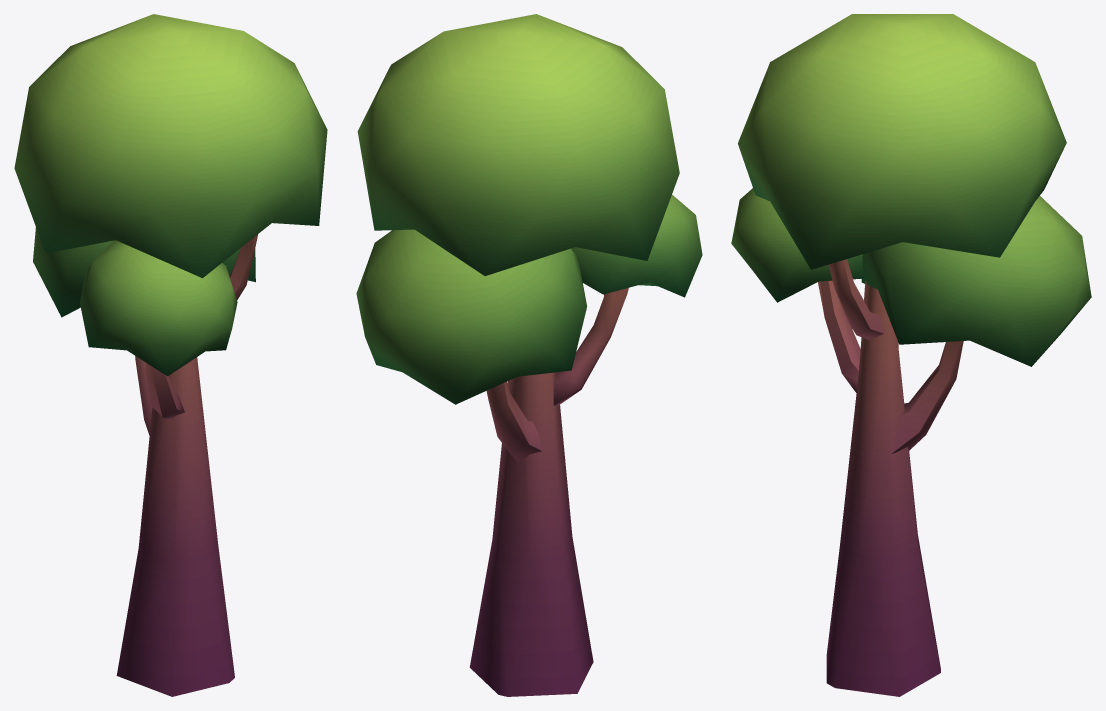
File: Oak1.fbx
The picture shows the model from 3 angles, left to right: view 1: azimuth 30°, elevation 25°; view 2: azimuth 150°, elevation 25°; view 3: azimuth 270°, elevation 25°; orthographic projection. The views are drawn at different scales.
Visible parts, largest first — view 1: Circle; view 2: Circle; view 3: Circle.
Boxes of the visible parts, x1=… form: Circle: x1=14, y1=14, x2=327, y2=696; Circle: x1=356, y1=14, x2=702, y2=696; Circle: x1=731, y1=14, x2=1091, y2=696.
Size of the model in its own units: 479 by 1092 by 552.
